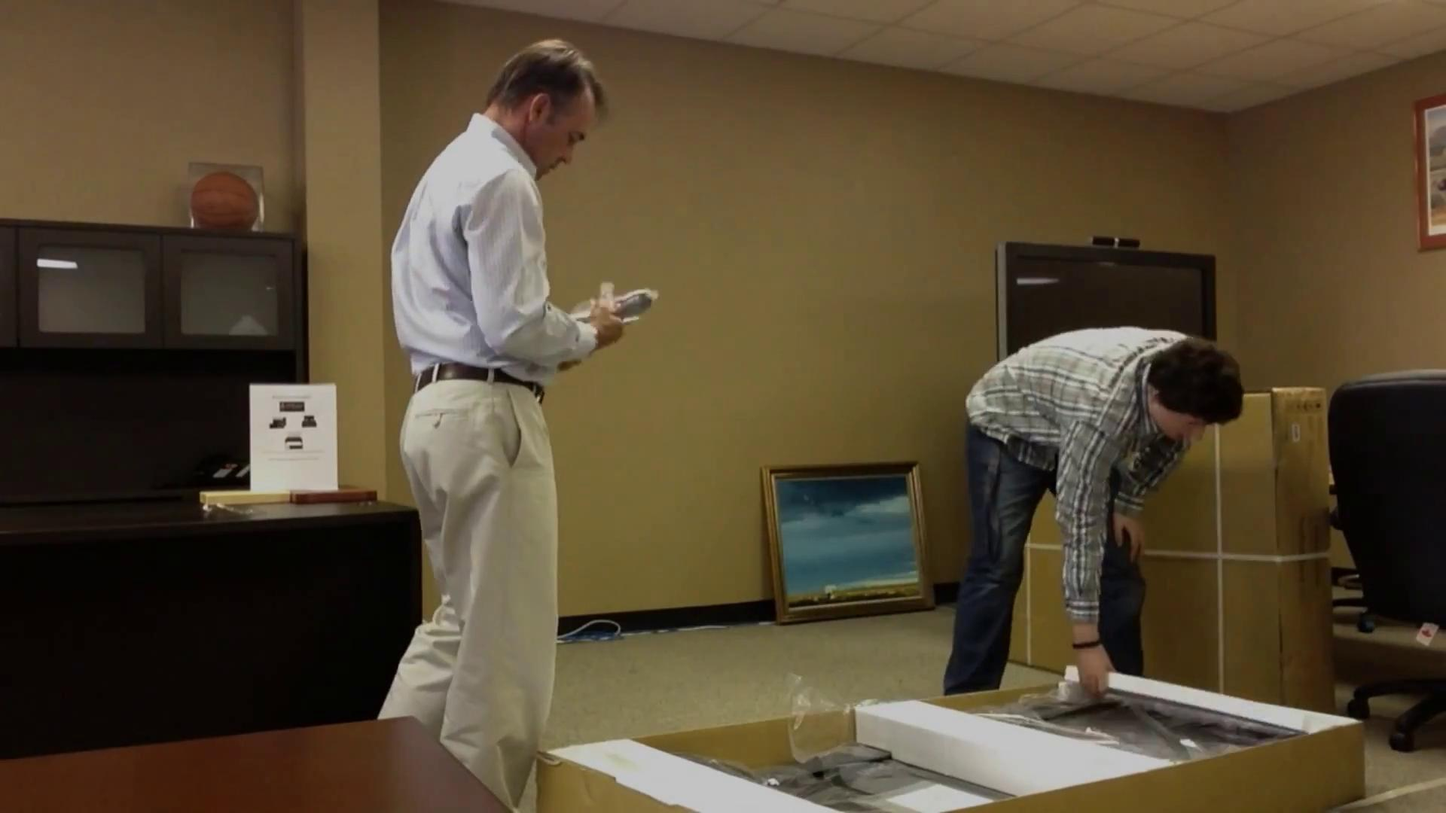victim: (370, 38, 633, 812), (939, 313, 1259, 755)
